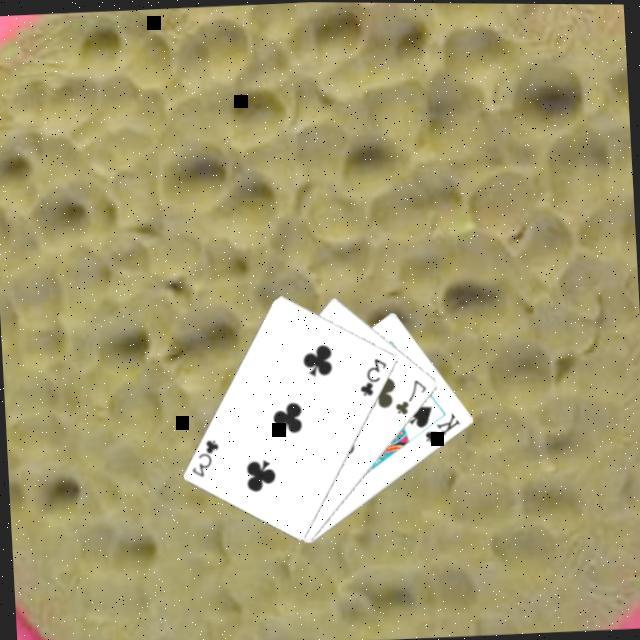3C: (185, 434, 222, 480), (354, 353, 390, 399)
7C: (389, 374, 429, 418)
KS: (419, 407, 463, 445)
